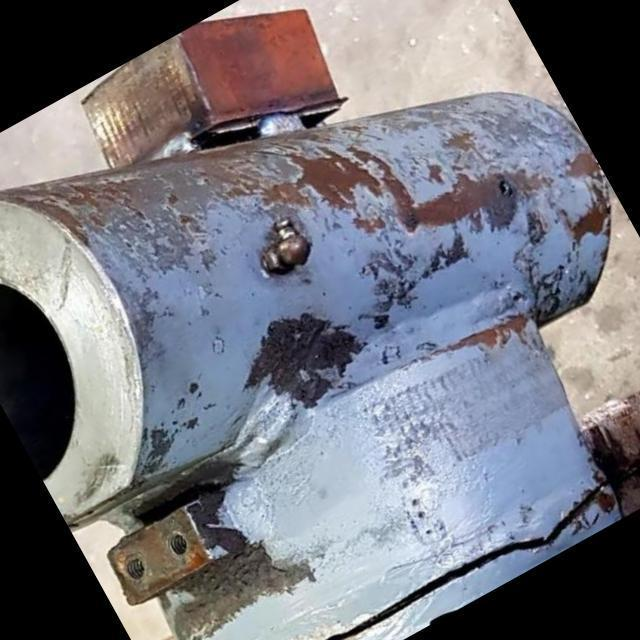defect: (316, 473, 625, 640)
